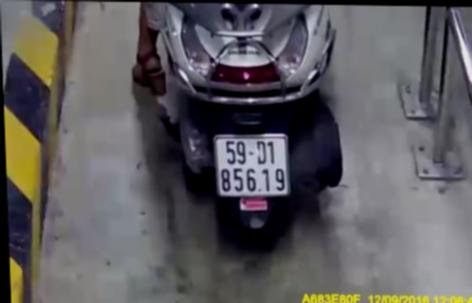License_Plate: (206, 129, 297, 204)
